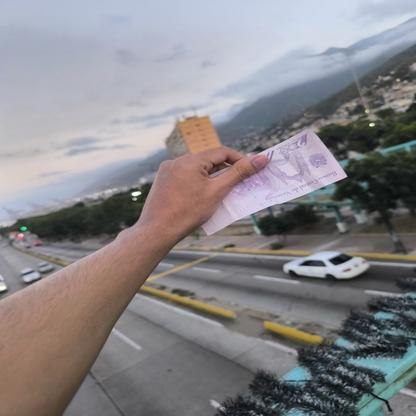one_hundred-back-vef: (200, 128, 348, 236)
